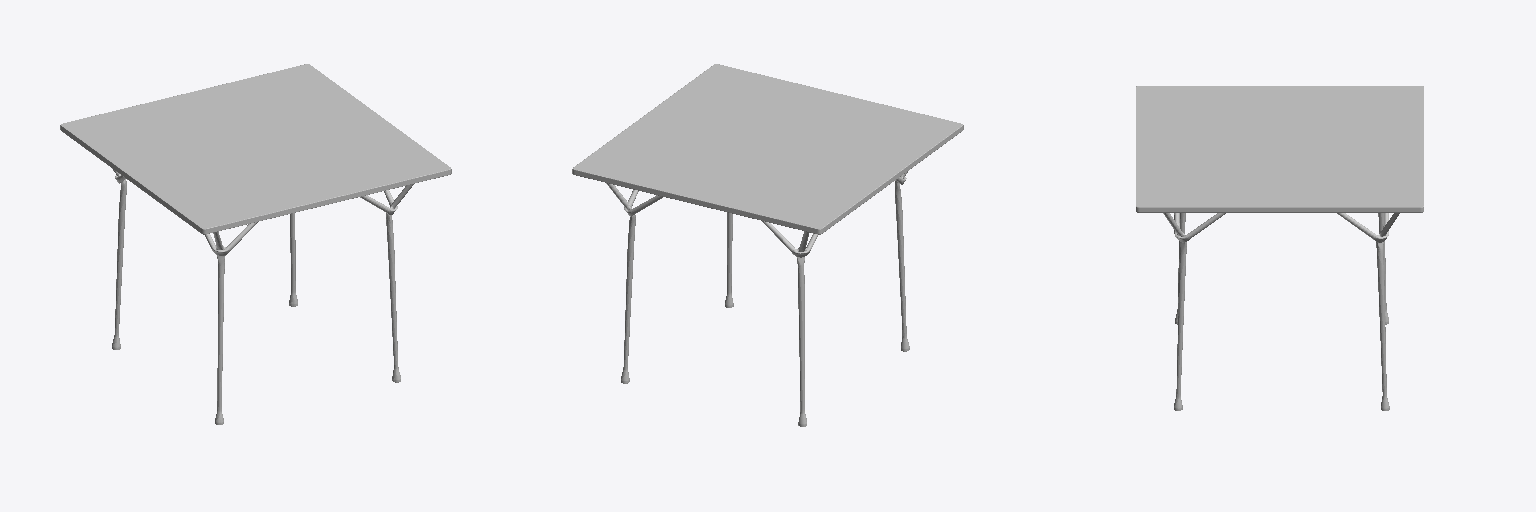
File: TableDinning.obj
3 views of the same model, side by side, from view 1: azimuth 30°, elevation 25°; view 2: azimuth 150°, elevation 25°; view 3: azimuth 270°, elevation 25° (orthographic).
Visible parts, largest first — view 1: Magir_Officina_Square_Dining_Table; view 2: Magir_Officina_Square_Dining_Table; view 3: Magir_Officina_Square_Dining_Table.
Boxes of the visible parts, <box> form: Magir_Officina_Square_Dining_Table: <box>60,64,451,424</box>; Magir_Officina_Square_Dining_Table: <box>572,64,963,426</box>; Magir_Officina_Square_Dining_Table: <box>1136,86,1423,410</box>.
Size of the model in its own units: 8994 by 7546 by 9006.